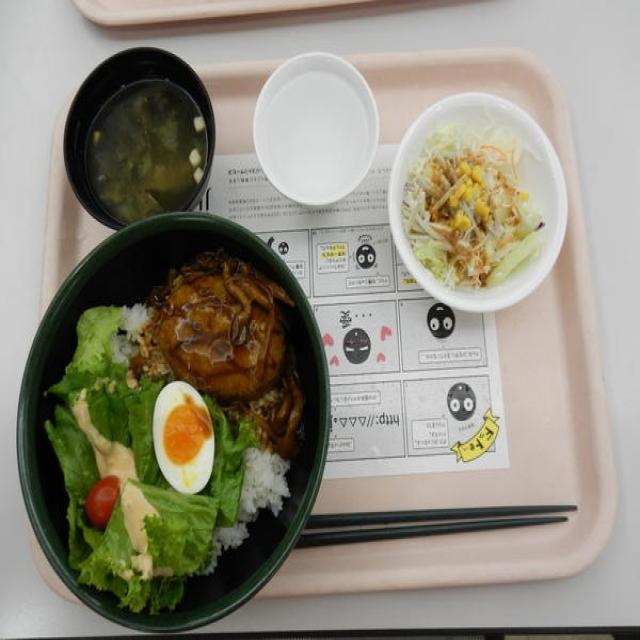Egg: (153, 382, 218, 497)
Green Salad: (398, 113, 542, 274)
